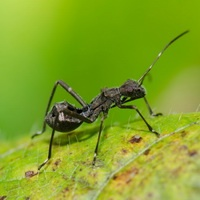insect: (31, 30, 188, 169)
